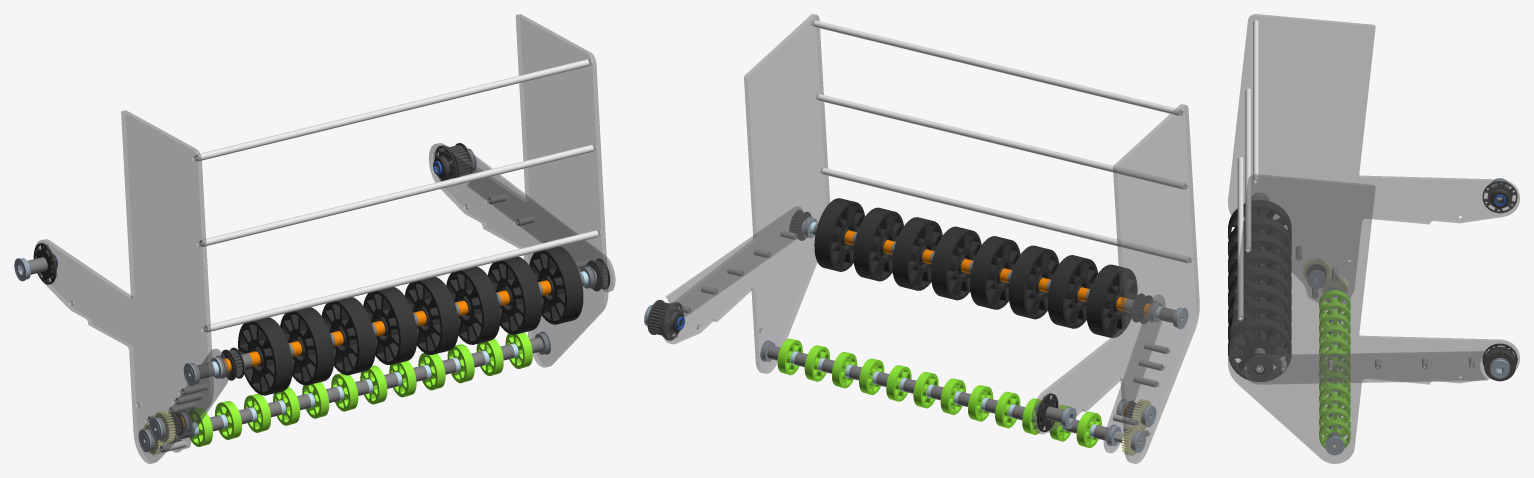
The picture shows the model from 3 angles, left to right: view 1: azimuth 30°, elevation 25°; view 2: azimuth 150°, elevation 25°; view 3: azimuth 270°, elevation 25°; orthographic projection. The views are drawn at different scales.
Parts seen in each view (by area): view 1: 5401-26-400-000 Infeed Assembly, 4IN Compliant Wheel FINAL Overmold (×8), am-3462 2IN Molded 500Hex Compliant Wheel REV2 (×12); view 2: 5401-26-400-000 Infeed Assembly, 4IN Compliant Wheel FINAL Overmold (×8), am-3462 2IN Molded 500Hex Compliant Wheel REV2 (×10), 217-2592-001 Rev7, WCP-0993 Rev1; view 3: 5401-26-400-000 Infeed Assembly, 4IN Compliant Wheel FINAL Overmold (×8), am-3462 2IN Molded 500Hex Compliant Wheel REV2 (×11), 217-2592-001 Rev7, WCP-0993 Rev1, WCP-0564 Rev1.
Boxes of the visible parts, x1,y1,x2,y2 form: 5401-26-400-000 Infeed Assembly: (35,14,615,463); 4IN Compliant Wheel FINAL Overmold (×8): (238,246,583,395); am-3462 2IN Molded 500Hex Compliant Wheel REV2 (×12): (188,332,532,446); 5401-26-400-000 Infeed Assembly: (662,14,1199,463); 4IN Compliant Wheel FINAL Overmold (×8): (814,198,1137,338); am-3462 2IN Molded 500Hex Compliant Wheel REV2 (×10): (777,338,1101,448); 217-2592-001 Rev7: (662,302,684,340); WCP-0993 Rev1: (647,299,673,337); 5401-26-400-000 Infeed Assembly: (1228,14,1519,463); 4IN Compliant Wheel FINAL Overmold (×8): (1228,200,1291,381); am-3462 2IN Molded 500Hex Compliant Wheel REV2 (×11): (1319,290,1350,448); 217-2592-001 Rev7: (1482,181,1517,213); WCP-0993 Rev1: (1484,346,1515,381); WCP-0564 Rev1: (1246,353,1272,380).
Bounding box in the file's own units: 0.689 × 0.5064 × 0.4649.
